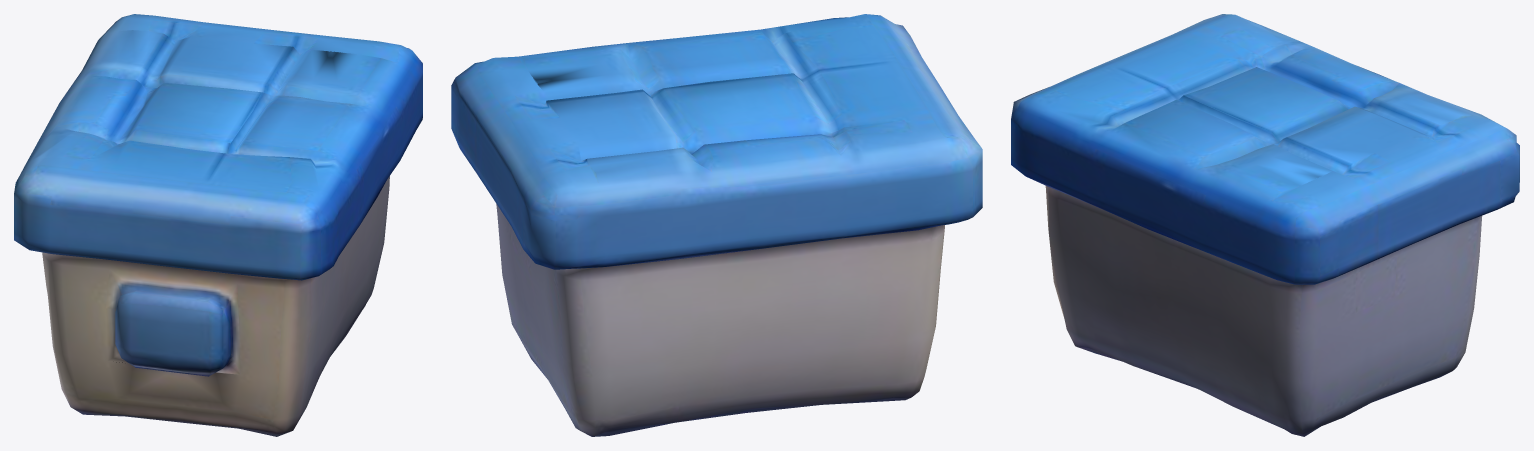
The model's file is cream.glb.
3 views of the same model, side by side, from view 1: azimuth 30°, elevation 25°; view 2: azimuth 150°, elevation 25°; view 3: azimuth 270°, elevation 25° (orthographic). The views are drawn at different scales.
Visible parts, largest first — view 1: Cream; view 2: Cream; view 3: Cream.
Part boxes in pixels (x1,y1,x2,y2): Cream: (14,14,422,436); Cream: (451,14,982,436); Cream: (1011,14,1519,436).
Size of the model in its own units: 1.64 by 0.9149 by 1.66.
1 material, 1 textured.
